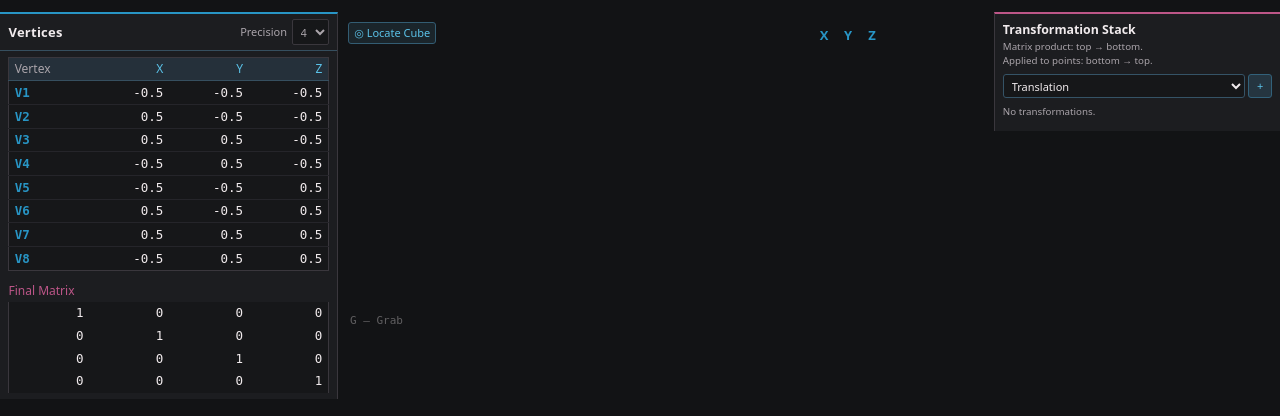
Scenario: transformation stack integration › adds a Translation through the UI with a stable session ID and neutral parameters
Select "Translation" in the dropdown named "transform-type" at (1124, 86), box [1003,74,1245,98]
Submit the form, box [1003,74,1272,98]
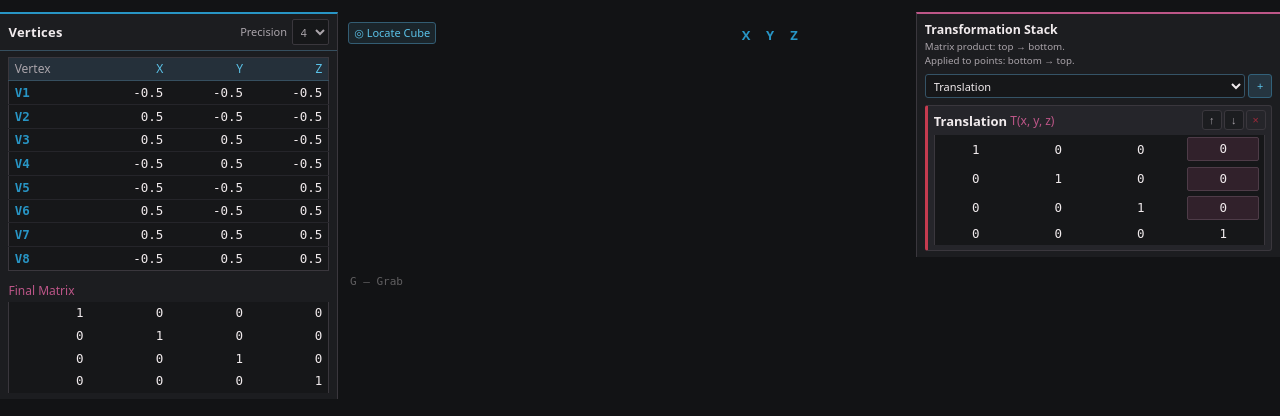
Expected: the heading "Translation" is shown, [934,112,1007,130]
